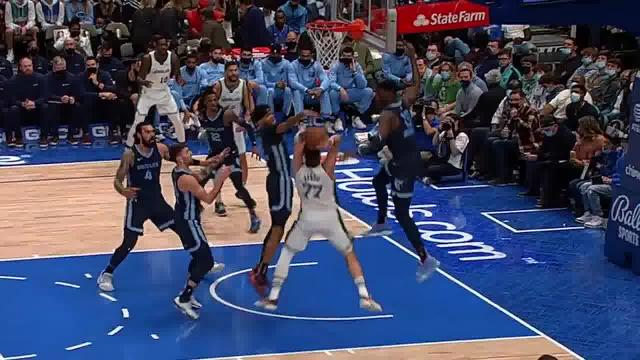ball-handler: (285, 128, 349, 316)
player: (368, 70, 422, 247), (168, 142, 218, 311), (112, 122, 175, 256), (196, 88, 246, 228), (210, 58, 253, 186), (137, 37, 179, 155)
